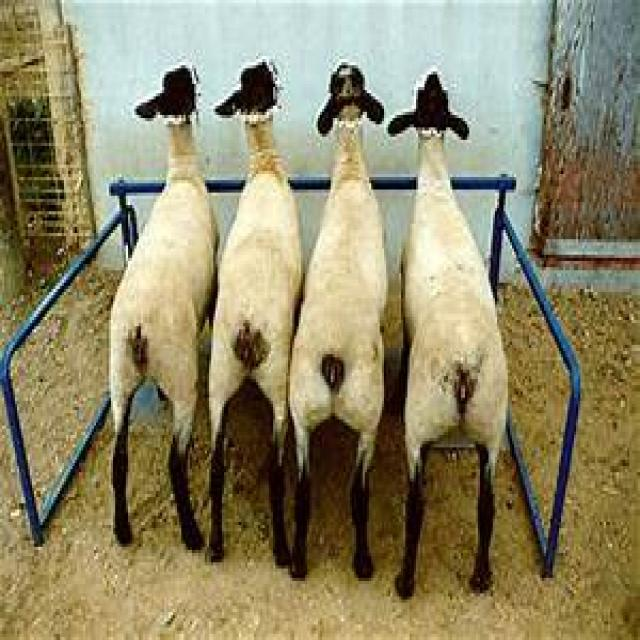animal: (386, 68, 508, 600), (106, 62, 220, 550), (284, 59, 388, 578), (205, 56, 303, 565)
